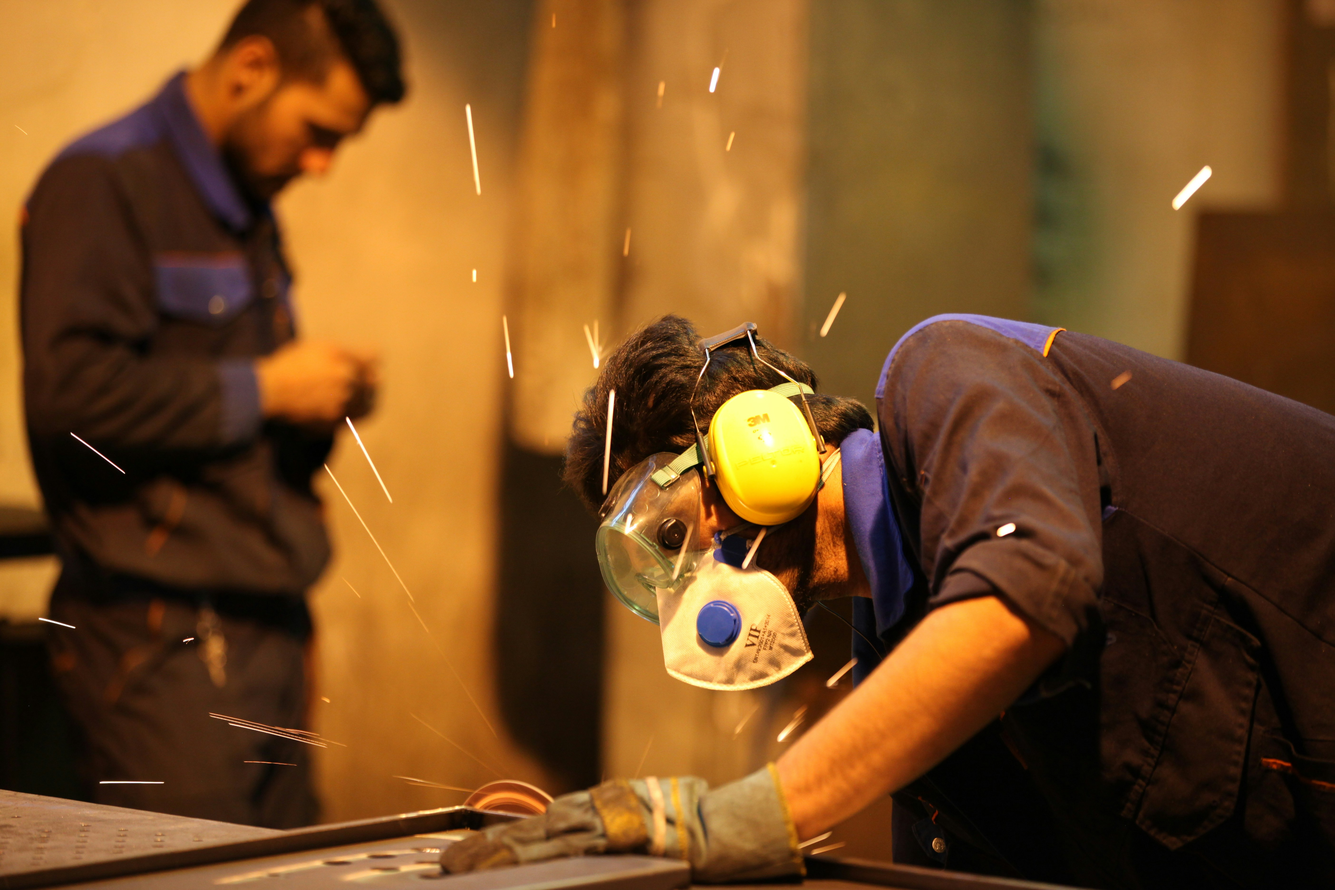No_Helmet: (566, 296, 858, 605), (211, 0, 408, 204)
